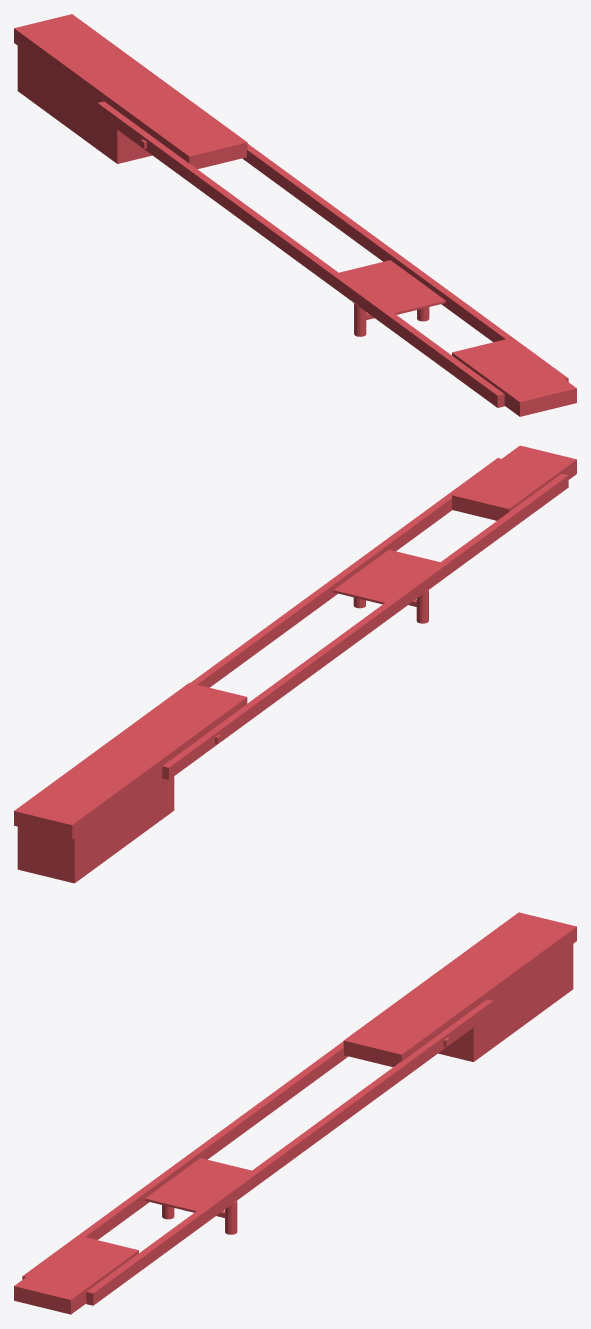
The model's file is Truck_Trailer_01.fbx.
3 views of the same model, one above another, from view 1: azimuth 30°, elevation 25°; view 2: azimuth 150°, elevation 25°; view 3: azimuth 330°, elevation 25° (orthographic).
Parts seen in each view (by area): view 1: Truck_Trailer_01; view 2: Truck_Trailer_01; view 3: Truck_Trailer_01.
Part boxes in pixels (x1,y1,x2,y2): Truck_Trailer_01: [14, 14, 576, 416]; Truck_Trailer_01: [14, 445, 576, 883]; Truck_Trailer_01: [14, 912, 576, 1314].
Bounding box in the file's own units: 125 × 94.77 × 1429.
